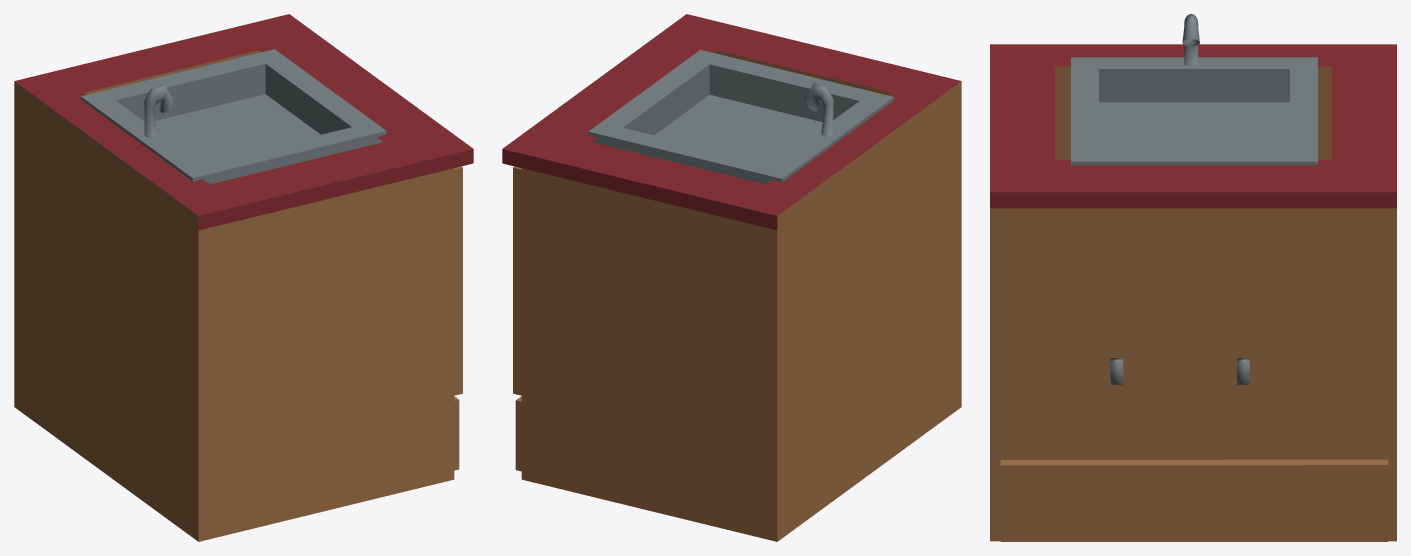
Rendered from CountertopSink.fbx.
3 views of the same model, side by side, from view 1: azimuth 30°, elevation 25°; view 2: azimuth 150°, elevation 25°; view 3: azimuth 270°, elevation 25° (orthographic). The views are drawn at different scales.
Parts seen in each view (by area): view 1: Cube.061, Cube.062, Circle.012; view 2: Cube.061, Cube.062, Circle.012; view 3: Cube.061, Cube.062, Circle.012.
Boxes of the visible parts, left/top/right/bottom form: Cube.061: left=14, top=14, right=473, bottom=541; Cube.062: left=81, top=49, right=386, bottom=184; Circle.012: left=144, top=85, right=173, bottom=137; Cube.061: left=502, top=14, right=961, bottom=541; Cube.062: left=588, top=50, right=894, bottom=184; Circle.012: left=805, top=83, right=833, bottom=136; Cube.061: left=990, top=44, right=1396, bottom=541; Cube.062: left=1071, top=57, right=1317, bottom=165; Circle.012: left=1182, top=14, right=1199, bottom=66.
Size of the model in its own units: 246 by 321 by 285.
